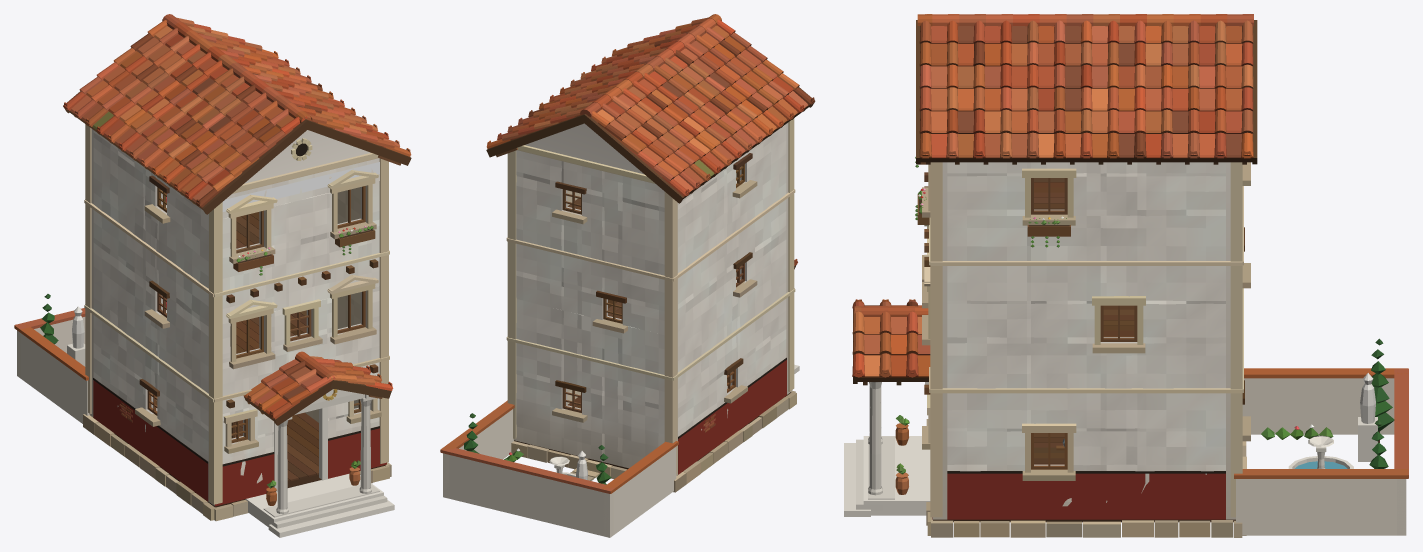
File: patrician_4_3.glb
The picture shows the model from 3 angles, left to right: view 1: azimuth 30°, elevation 25°; view 2: azimuth 150°, elevation 25°; view 3: azimuth 270°, elevation 25°; orthographic projection. The views are drawn at different scales.
Parts seen in each view (by area): view 1: House, Walls, Rooms, Frieze; view 2: House, Walls, Rooms; view 3: House, Walls, Rooms.
Part boxes in pixels (<box>): House: <box>14,14,411,537</box>; Walls: <box>89,129,379,505</box>; Rooms: <box>156,187,360,481</box>; Frieze: <box>222,162,379,211</box>; House: <box>440,14,815,537</box>; Walls: <box>513,122,792,475</box>; Rooms: <box>567,170,736,408</box>; House: <box>844,14,1408,537</box>; Walls: <box>932,162,1235,519</box>; Rooms: <box>1034,178,1134,464</box>.
Bounding box in the file's own units: 4.44 × 7.73 × 8.43.
4 materials, 4 textured.
